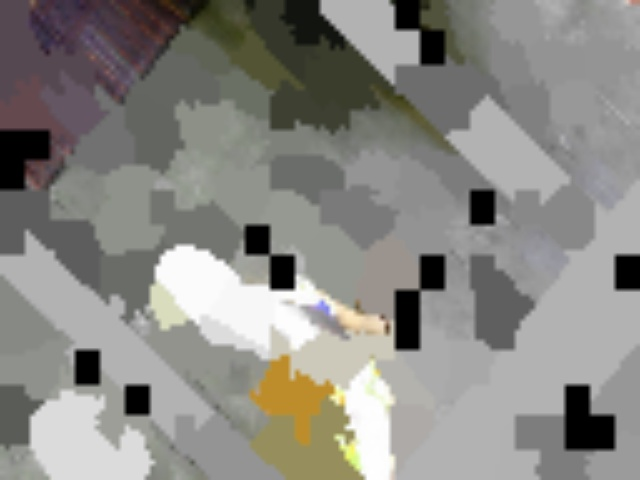eight: (185, 329, 239, 388)
